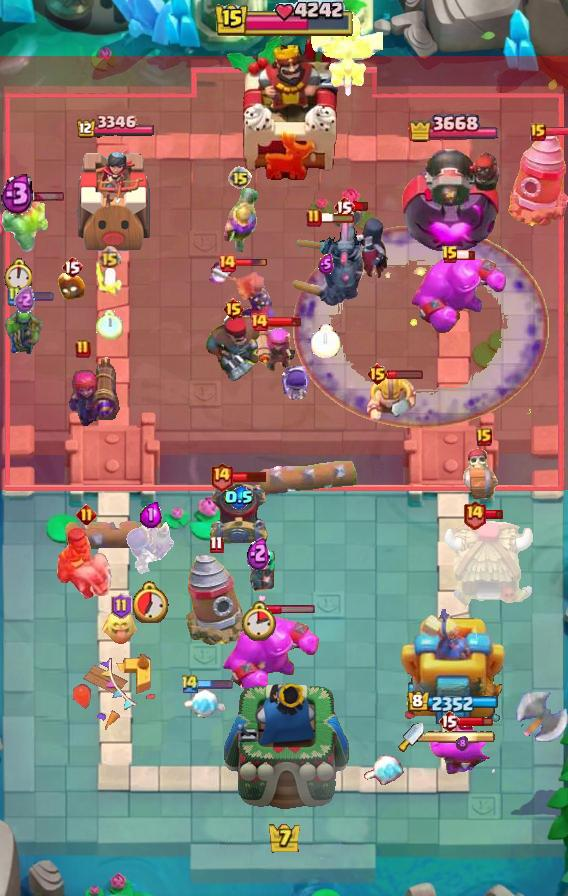axe: (508, 692, 568, 752)
bar: (13, 191, 65, 202), (265, 604, 316, 615), (231, 470, 268, 483), (198, 678, 234, 690), (266, 316, 302, 328), (19, 290, 55, 302), (320, 212, 356, 224), (458, 715, 493, 727), (387, 369, 424, 380), (234, 258, 268, 268), (544, 126, 568, 137), (456, 249, 476, 261), (485, 509, 504, 520), (353, 201, 370, 212)
bar-level: (462, 499, 487, 530), (209, 461, 234, 492), (228, 166, 252, 190), (366, 362, 389, 386), (222, 297, 245, 321), (111, 593, 132, 619), (98, 246, 121, 269), (438, 709, 460, 733), (61, 255, 83, 279), (333, 195, 355, 219), (76, 504, 97, 525), (180, 673, 200, 694), (249, 312, 269, 332), (217, 253, 237, 273), (441, 245, 459, 265), (75, 339, 91, 359), (6, 286, 22, 306), (306, 208, 322, 228), (476, 428, 492, 446), (530, 123, 546, 141), (209, 535, 224, 554)
bomber-evolution: (125, 521, 177, 577)
cannoneer-tower: (401, 138, 505, 256)
clock: (133, 581, 169, 623), (241, 601, 276, 641), (311, 324, 341, 358), (3, 258, 32, 292), (96, 310, 123, 340)
dagger-duchess-tower: (401, 601, 505, 731)
dagger-duchess-tower-bar: (424, 730, 496, 744)
elite-barbarian: (365, 375, 417, 423)
elixir: (0, 172, 35, 215), (247, 535, 270, 570), (224, 486, 254, 509), (140, 501, 162, 528), (14, 286, 35, 313), (318, 254, 334, 274), (456, 736, 468, 751)
elixir-golem-mid: (428, 724, 496, 776)
fire-spirit: (57, 273, 87, 301)
firecracker: (250, 321, 295, 371)
firecracker-evolution: (69, 354, 121, 426)
golemite: (0, 201, 52, 253)
heal-spirit: (100, 608, 142, 646)
hunter: (203, 313, 263, 385)
ice-spirit: (362, 753, 408, 789), (184, 688, 226, 724)
king-tower: (220, 678, 349, 826), (224, 23, 344, 181)
king-tower-bar: (213, 0, 355, 40)
mortar: (208, 480, 270, 548)
musketeer: (220, 188, 260, 252)
night-witch: (329, 208, 391, 280)
queen-tower: (71, 145, 157, 256)
ram-rider: (56, 525, 116, 601)
rascal-girl: (239, 551, 277, 603)
skeleton: (95, 261, 123, 301)
skeleton-evolution: (279, 366, 310, 406)
spear-goblin: (4, 300, 44, 358)
the-log: (253, 459, 359, 497), (64, 518, 168, 552)
tower-bar: (408, 111, 498, 146), (407, 691, 499, 715), (74, 115, 154, 140)
valkyrie-evolution: (209, 259, 278, 333)
wall-breaker: (458, 447, 510, 501)
